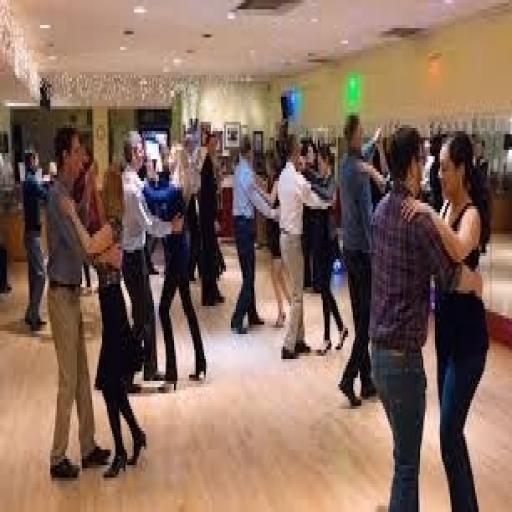dancing: (342, 128, 497, 453), (106, 98, 221, 402), (223, 67, 326, 359), (52, 128, 146, 446), (267, 102, 354, 392)
